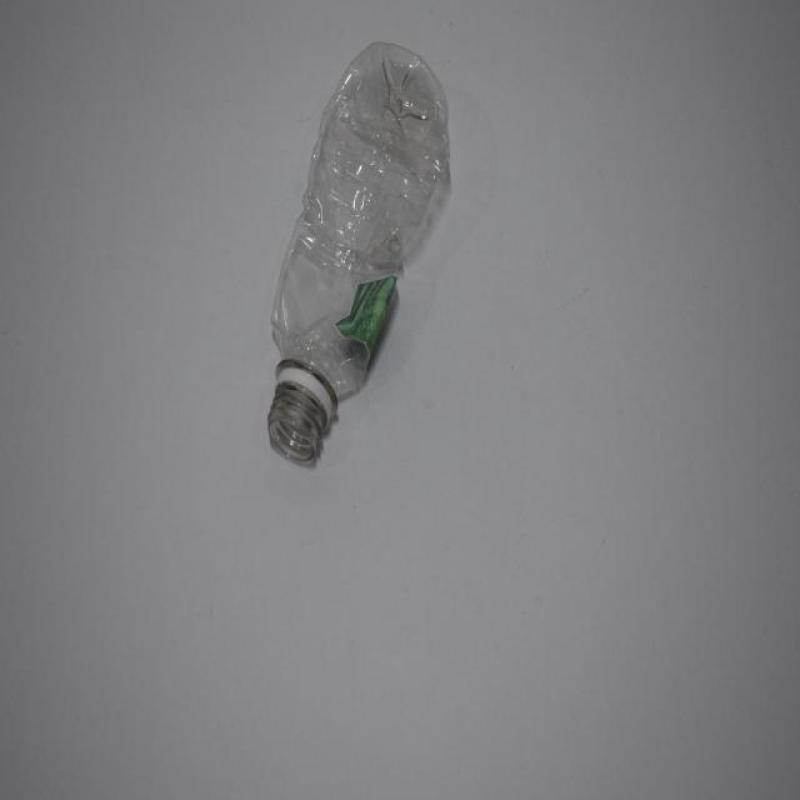botella: (272, 42, 446, 466)
